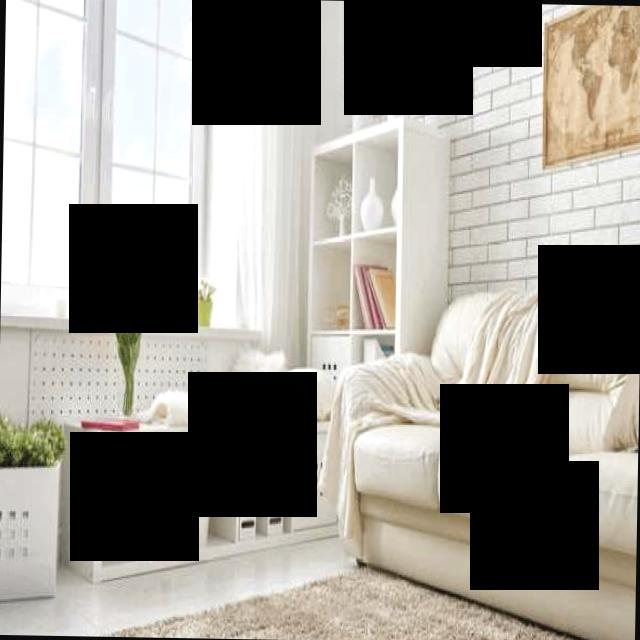modern shelf: (54, 398, 329, 586), (294, 108, 444, 370)
modern sofa: (325, 281, 640, 640)
